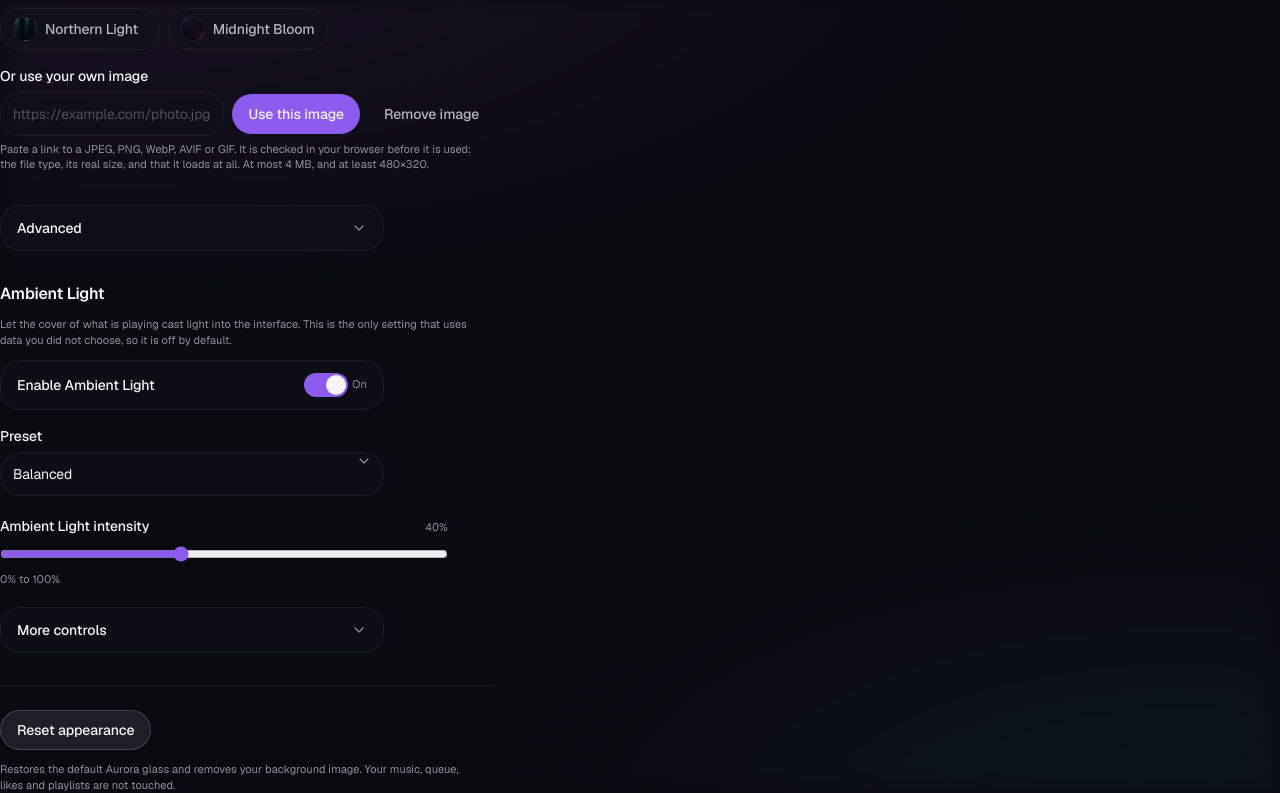
it: Appearance panel: Ambient Light is a first-class, progressive setting › the enumerated controls are menu buttons: one tab stop, and the menu checks the current value
(page scrolled)
Click the button named "Preset".
click(43, 474)  # box [0,452,384,496]
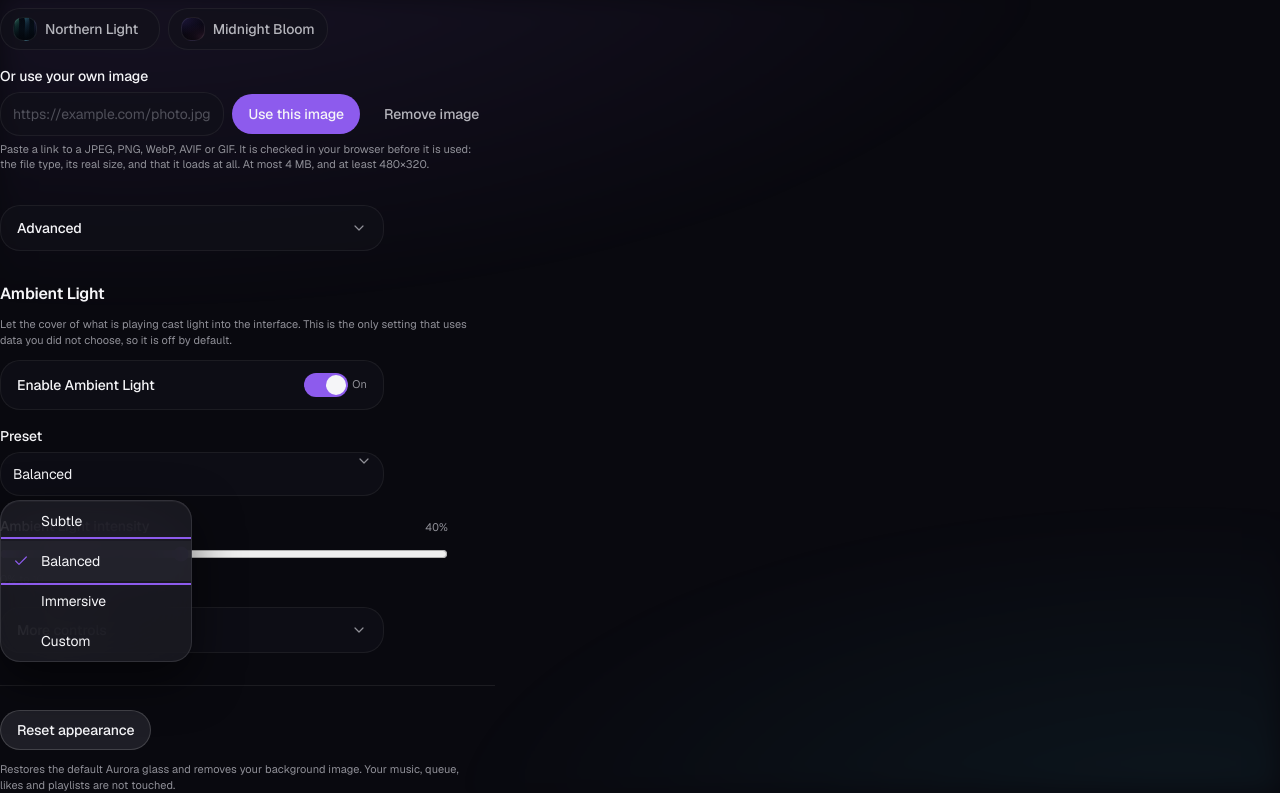
Result: the menu item "Balanced" is shown at [1,541,191,581]
Click the menu item with test id "ambient-preset-immersive".
click(96, 601)  # box [1,581,191,621]
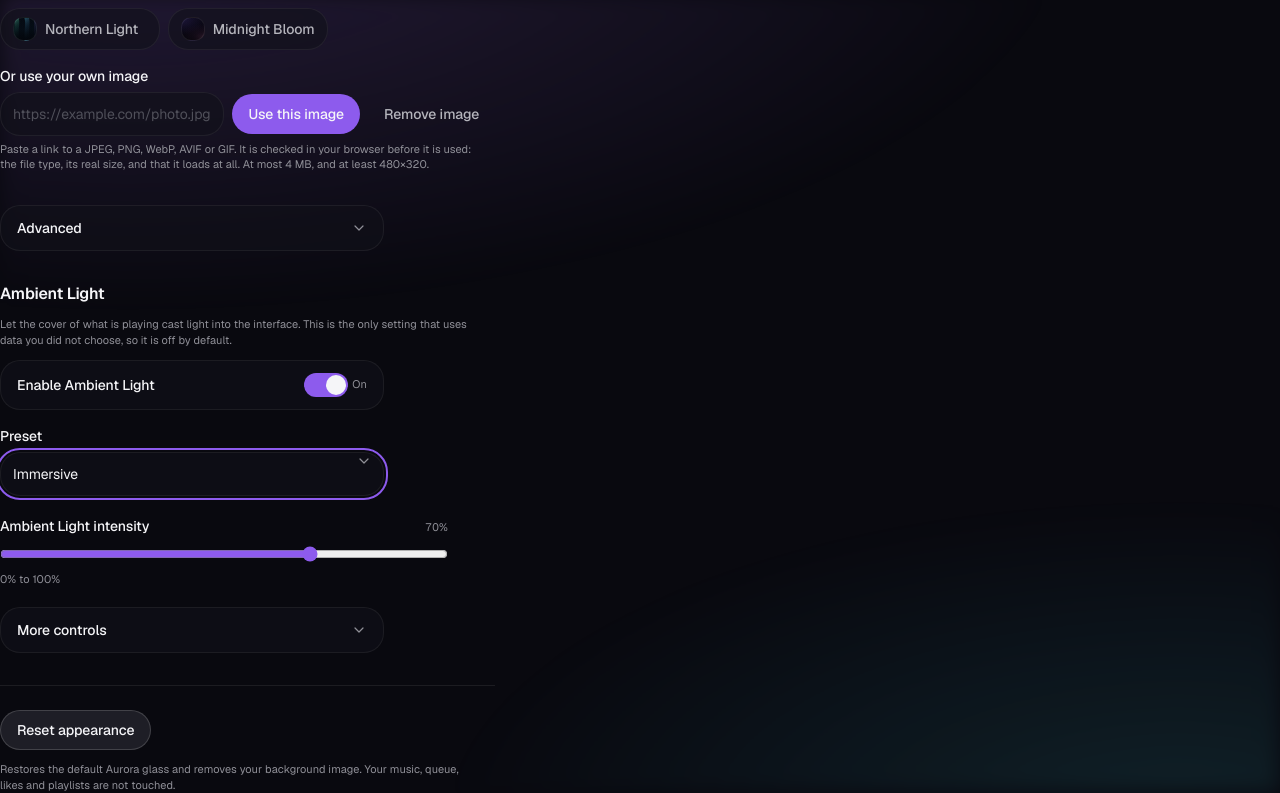
Result: the button named "Preset" reads "Immersive" at [0,452,384,496]
